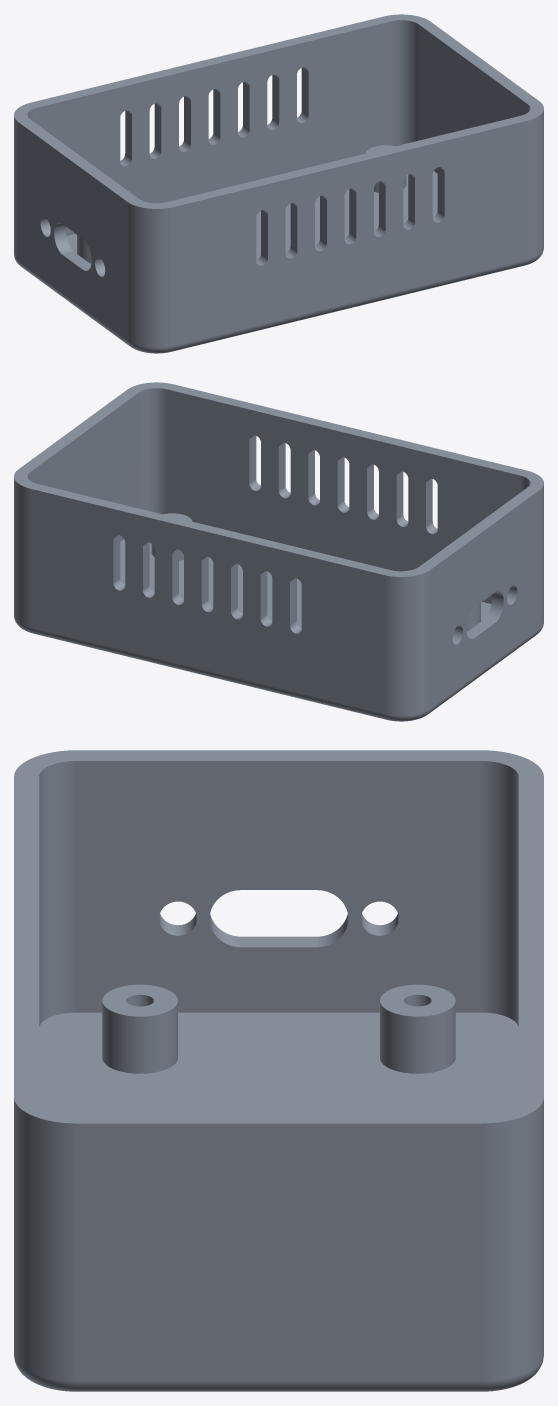
File: step-4-preview-1.glb
3 renders of one model, top to bottom at view 1: azimuth 30°, elevation 25°; view 2: azimuth 150°, elevation 25°; view 3: azimuth 270°, elevation 25°, orthographic. The views are drawn at different scales.
Visible parts, largest first — view 1: preview_12, preview_25, preview_0, preview_3, preview_23, preview_1, preview_24, preview_16, preview_27, preview_88, preview_4, preview_2; view 2: preview_15, preview_21, preview_0, preview_3, preview_23, preview_4, preview_22, preview_17, preview_56, preview_88, preview_1, preview_2; view 3: preview_18, preview_19, preview_88, preview_3, preview_16, preview_17, preview_20, preview_26, preview_59, preview_89, preview_91, preview_93 (+2 smaller).
Boxes of the visible parts, x1,y1,x2,y2 form: preview_12: (173, 121, 526, 345); preview_25: (37, 21, 390, 235); preview_0: (18, 122, 127, 339); preview_3: (14, 14, 543, 208); preview_23: (419, 25, 527, 173); preview_1: (127, 202, 173, 347); preview_24: (391, 20, 418, 146); preview_16: (527, 110, 543, 259); preview_27: (172, 259, 526, 351); preview_88: (66, 171, 437, 263); preview_4: (14, 116, 18, 260); preview_2: (18, 261, 128, 345); preview_15: (31, 489, 384, 713); preview_21: (167, 389, 520, 603); preview_0: (430, 490, 539, 707); preview_3: (14, 382, 543, 576); preview_23: (30, 393, 138, 541); preview_4: (384, 570, 430, 715); preview_22: (139, 388, 166, 514); preview_17: (14, 478, 30, 627); preview_56: (31, 627, 385, 719); preview_88: (120, 539, 491, 631); preview_1: (539, 484, 543, 628); preview_2: (429, 629, 539, 713); preview_18: (77, 1123, 480, 1380); preview_19: (77, 761, 480, 1012); preview_88: (39, 1012, 518, 1112); preview_3: (14, 750, 543, 1123); preview_16: (14, 1098, 76, 1380); preview_17: (481, 1098, 543, 1380); preview_20: (39, 761, 76, 1026); preview_26: (481, 761, 518, 1026); preview_59: (77, 1381, 480, 1391); preview_89: (102, 1002, 177, 1073); preview_91: (380, 1002, 455, 1073); preview_93: (102, 984, 177, 1016).
Size of the model in its own units: 0.07 by 0.024 by 0.042.
